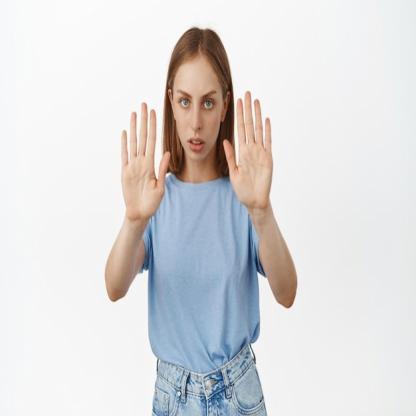stop: (221, 87, 280, 213), (117, 99, 173, 222)
